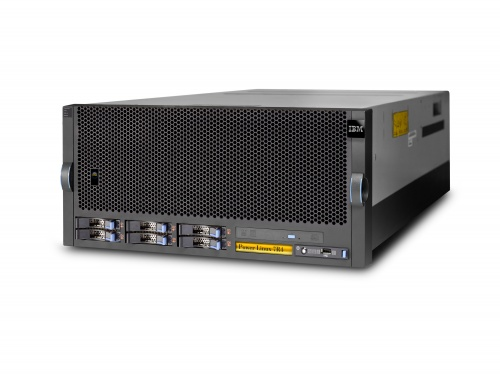ibm-server: (46, 84, 457, 274)
